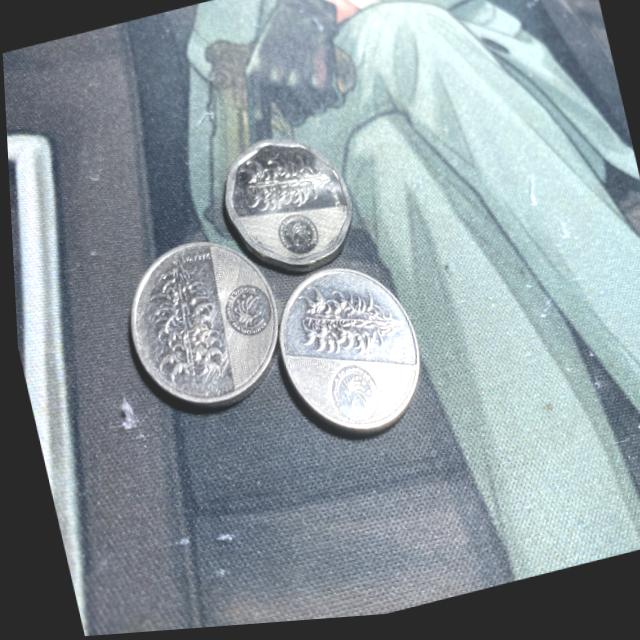5_New_Back: (285, 272, 406, 374), (139, 253, 221, 382), (229, 141, 333, 222)
